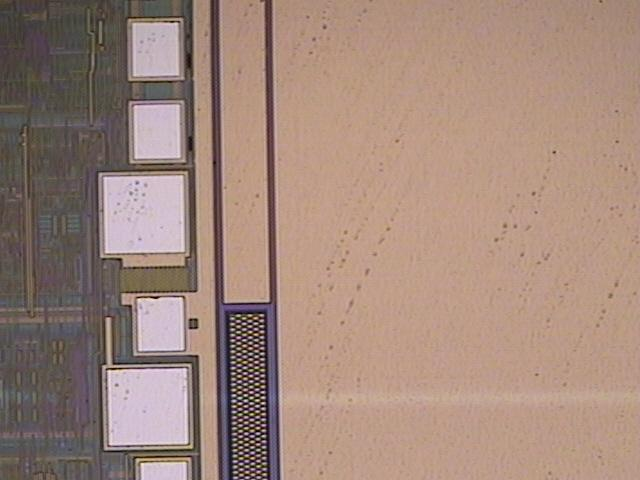SCRATCH: (106, 1, 640, 480)
